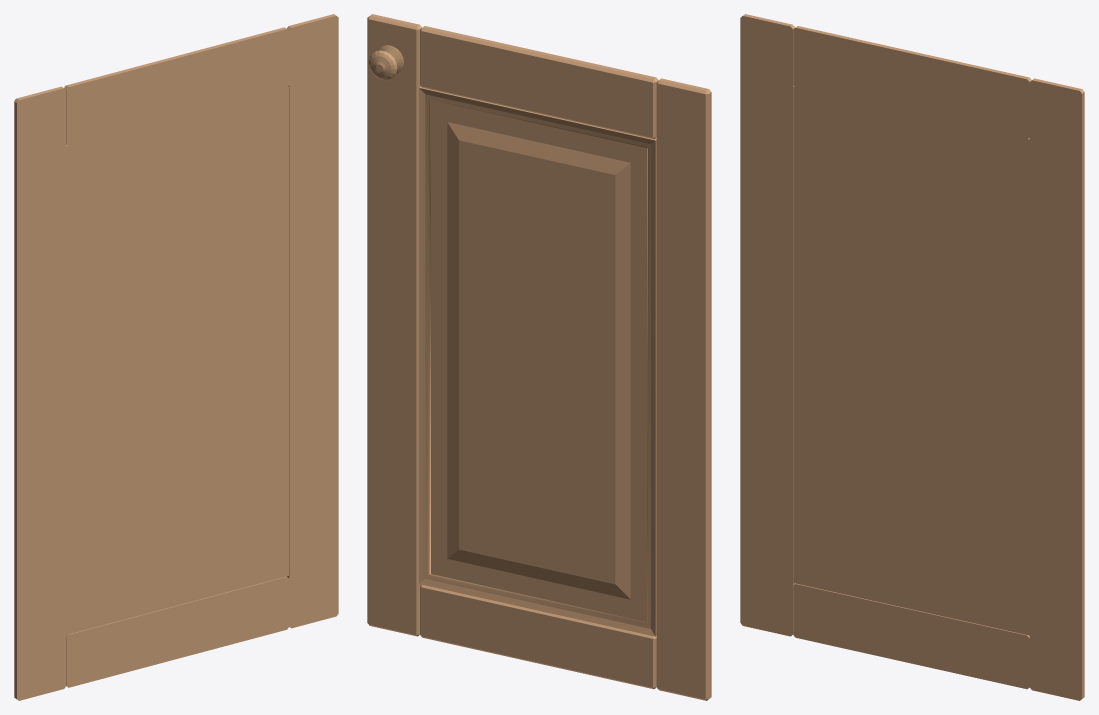
File: puerta_alacenaB.obj
3 renders of one model, left to right at view 1: azimuth 30°, elevation 25°; view 2: azimuth 150°, elevation 25°; view 3: azimuth 330°, elevation 25°, orthographic.
Parts seen in each view (by area): view 1: polySurface549; view 2: polySurface549; view 3: polySurface549.
Part boxes in pixels (box(x1,y1,x2,y2)): polySurface549: box(14, 14, 338, 700); polySurface549: box(367, 14, 711, 700); polySurface549: box(740, 14, 1084, 700).
Size of the model in its own units: 1.15 by 2.01 by 0.1322.
Materials: 1 (1 with a texture image).
